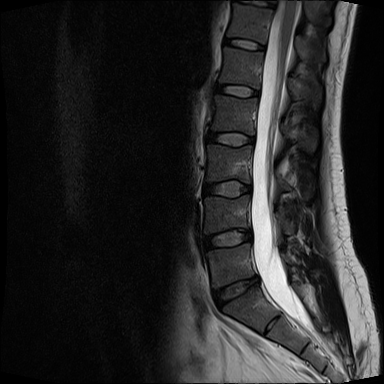Lumbar Disc Bulge (LDB): (205, 269, 264, 315)
Normal IVD: (193, 226, 255, 253), (196, 172, 253, 200), (200, 127, 259, 149), (208, 80, 264, 103), (218, 34, 269, 54)
Spinal Stenosis (SS): (250, 269, 270, 293)
